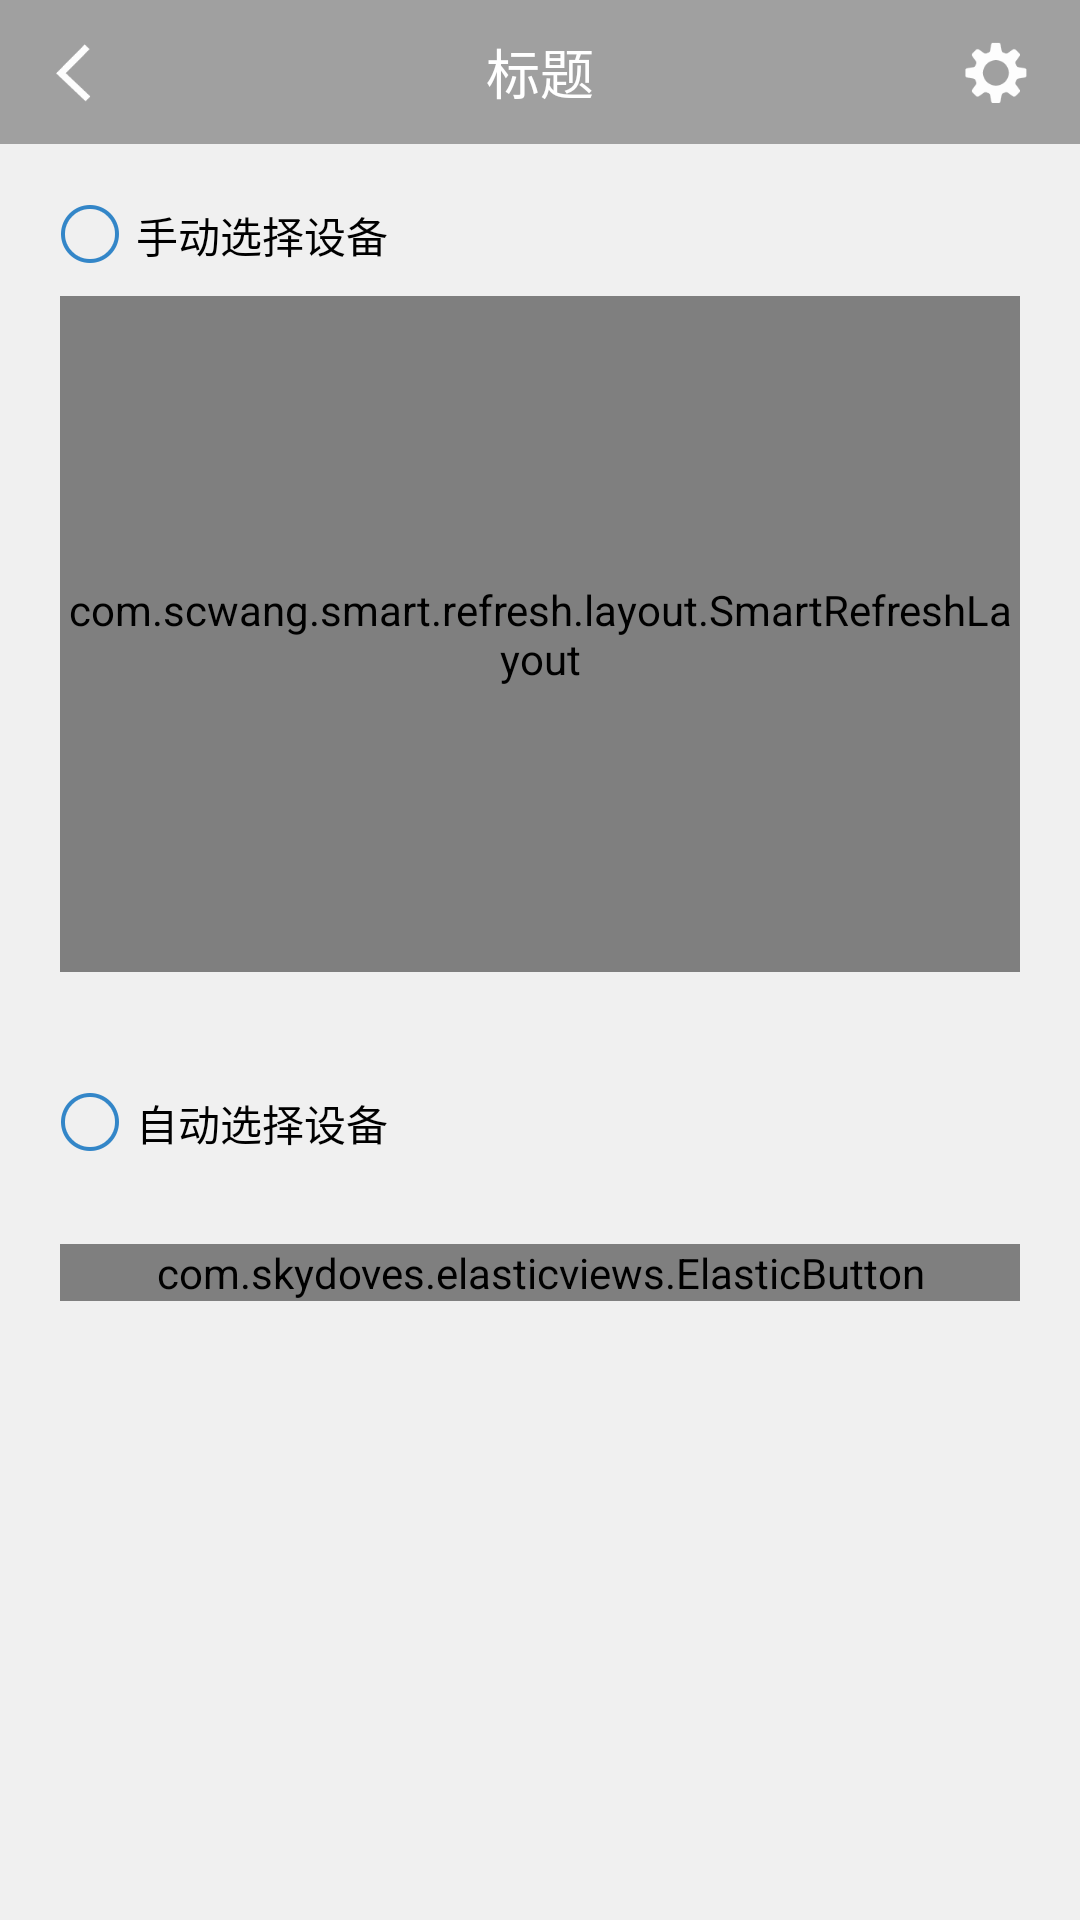

Named icons in this screenshot (1080w x 1920h) and their centers, [x,y]:
back: [73,72]
